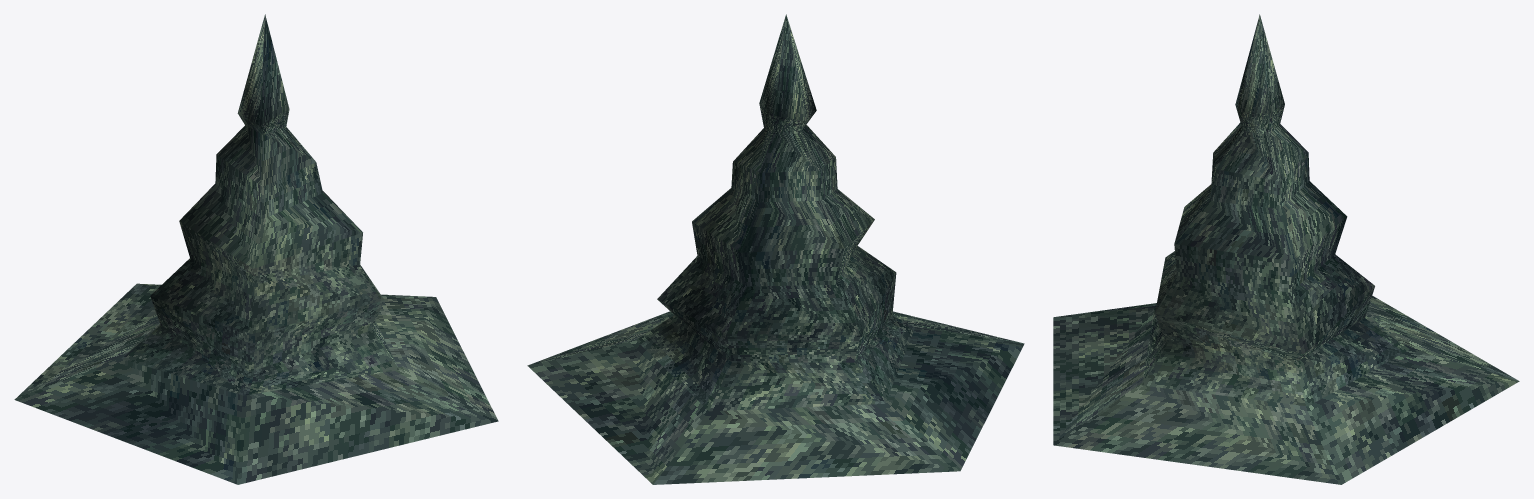
Rendered from RockCrop.glb.
The picture shows the model from 3 angles, left to right: view 1: azimuth 30°, elevation 25°; view 2: azimuth 150°, elevation 25°; view 3: azimuth 270°, elevation 25°; orthographic projection. The views are drawn at different scales.
Visible parts, largest first — view 1: Cylinder; view 2: Cylinder; view 3: Cylinder.
Boxes of the visible parts, x1=… form: Cylinder: x1=14, y1=14, x2=498, y2=484; Cylinder: x1=527, y1=14, x2=1024, y2=484; Cylinder: x1=1053, y1=14, x2=1519, y2=484.
Bounding box in the file's own units: 4.53 × 3.74 × 4.31.
1 material, 1 textured.
